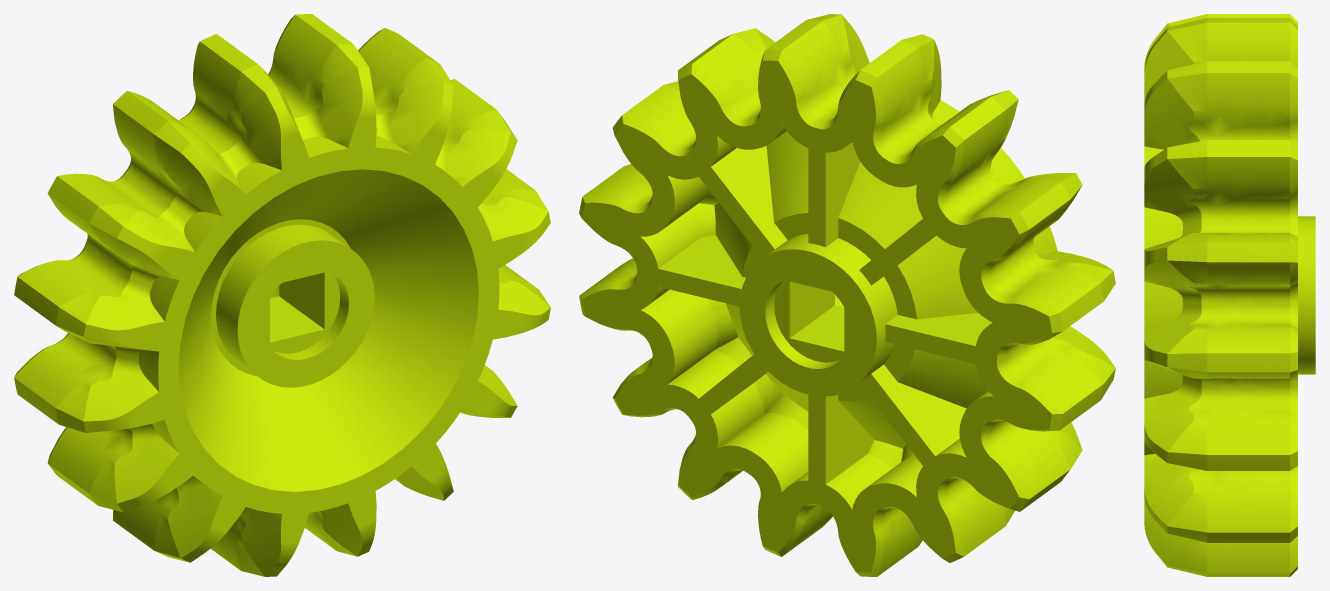
3 renders of one model, left to right at view 1: azimuth 30°, elevation 25°; view 2: azimuth 150°, elevation 25°; view 3: azimuth 270°, elevation 25°, orthographic.
Parts seen in each view (by area): view 1: main_97d700; view 2: main_97d700; view 3: main_97d700.
Boxes of the visible parts, x1,y1,x2,y2 form: main_97d700: (14,14,550,576); main_97d700: (579,14,1115,576); main_97d700: (1144,14,1315,576).
Bounding box in the file's own units: 28.2 × 28.2 × 8.64.
